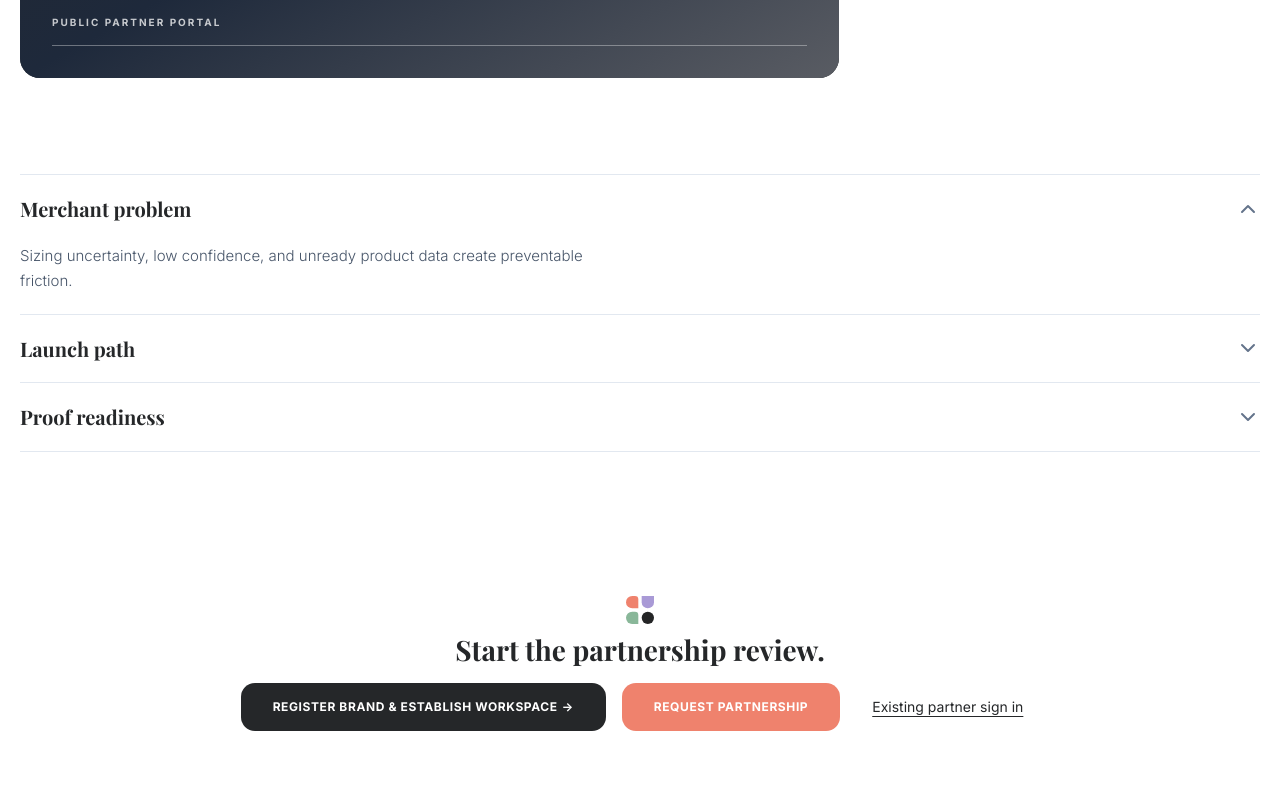
D. PartnerGatewayView › opens one pillar at a time and exposes the accordion semantics
(page scrolled)
Click the button with test id "pillar-trigger-1" at (78, 348), box [20,314,1260,382]
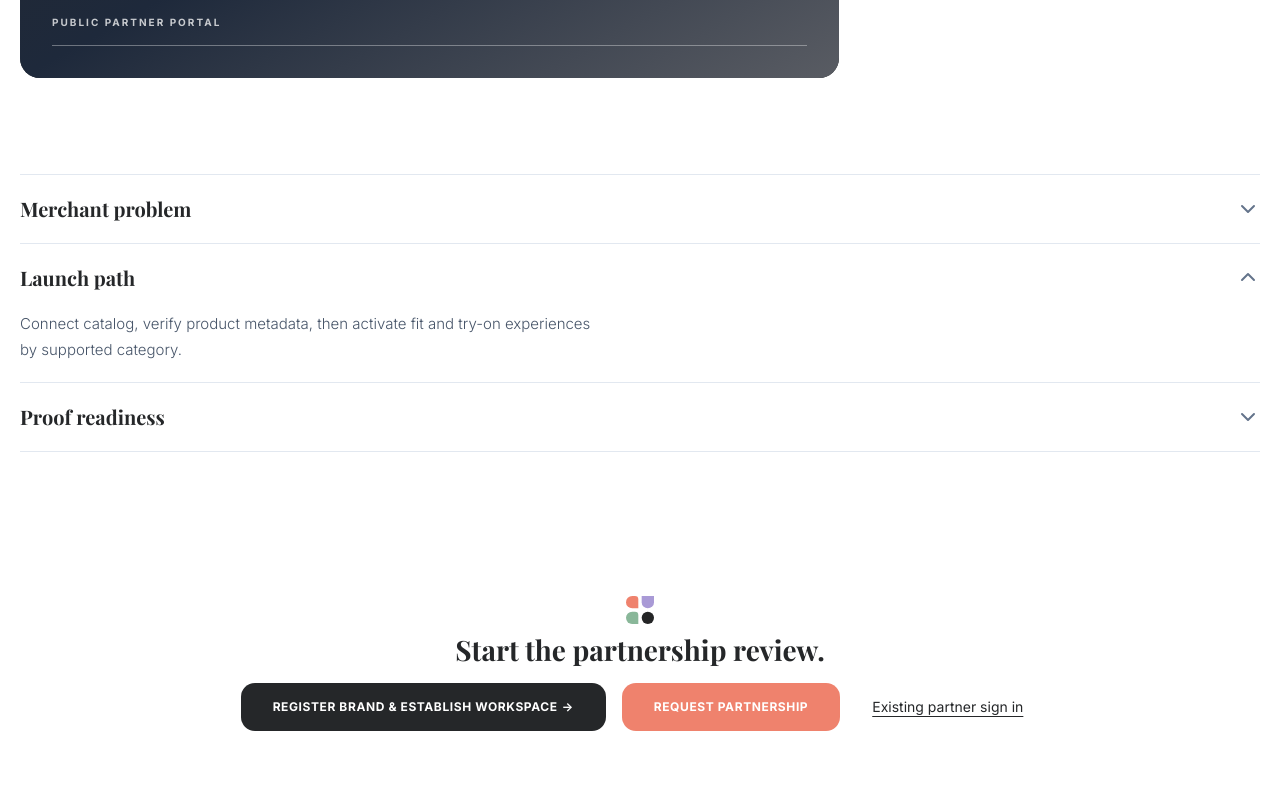
Expected: the button with test id "pillar-trigger-1" is expanded, [20,244,1260,311]
Expected: the button with test id "pillar-trigger-0" is collapsed, [20,175,1260,242]
